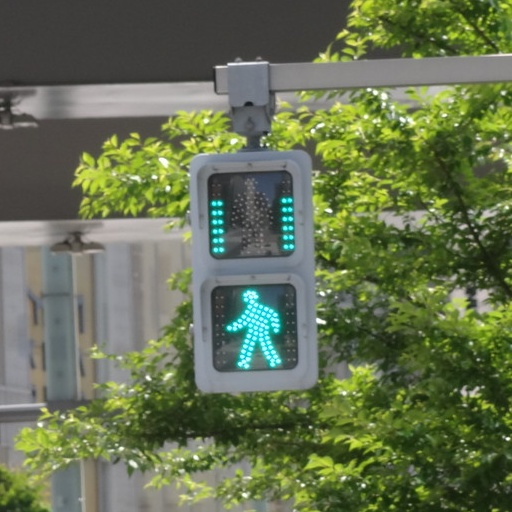Pedestrian_Signal_Blue: (186, 154, 310, 392)
